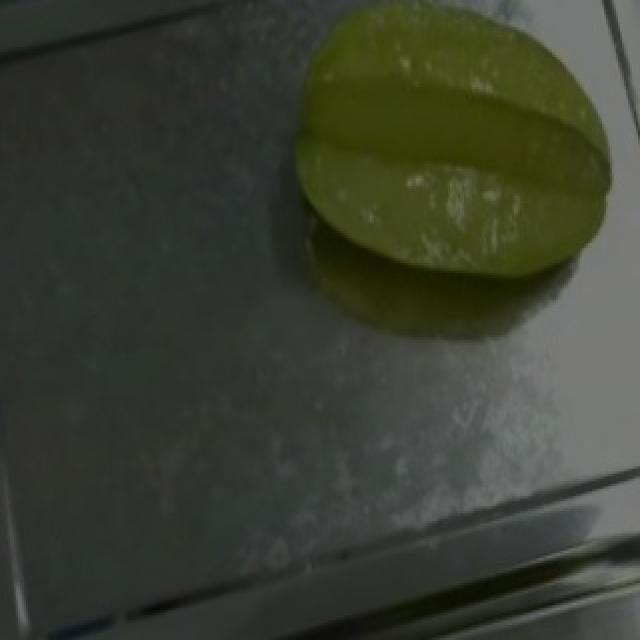fruit: (266, 0, 640, 330)
